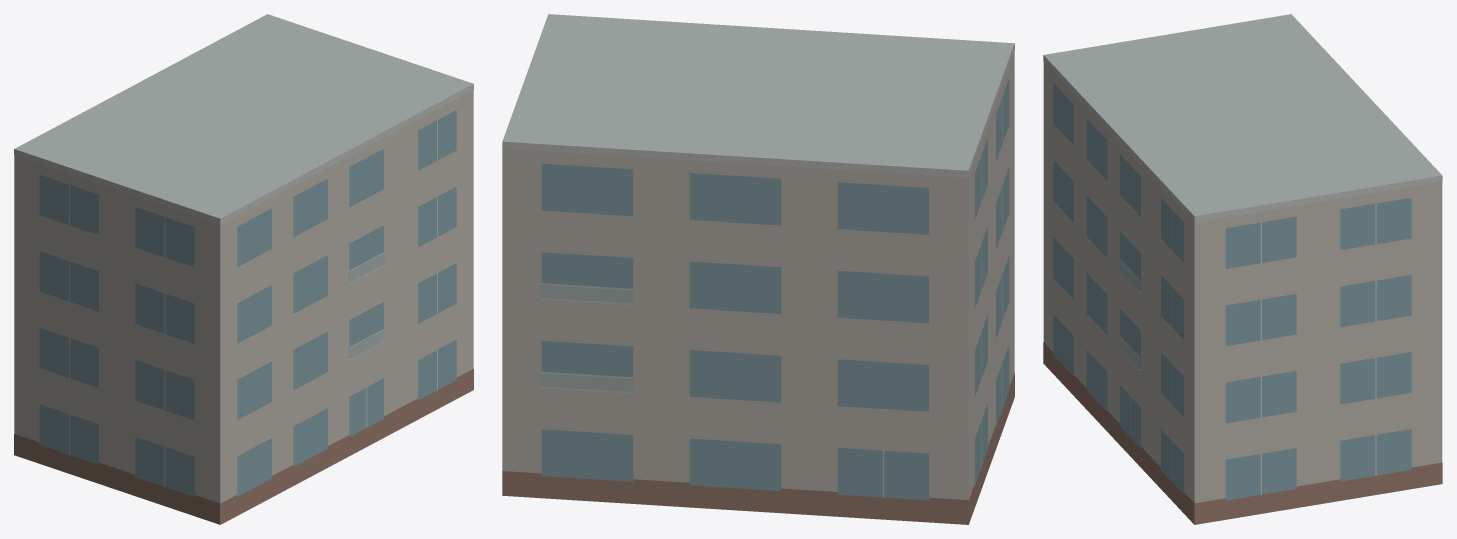
File: survey-upis-32832706.glb
3 renders of one model, left to right at view 1: azimuth 30°, elevation 25°; view 2: azimuth 150°, elevation 25°; view 3: azimuth 270°, elevation 25°, orthographic. The views are drawn at different scales.
Visible parts, largest first — view 1: survey-upis-32832706.tmp; view 2: survey-upis-32832706.tmp; view 3: survey-upis-32832706.tmp.
Boxes of the visible parts, x1=… form: survey-upis-32832706.tmp: x1=14, y1=14, x2=473, y2=524; survey-upis-32832706.tmp: x1=502, y1=14, x2=1014, y2=524; survey-upis-32832706.tmp: x1=1043, y1=14, x2=1442, y2=524.
Bounding box in the file's own units: 17.17 × 12.2 × 14.31.
